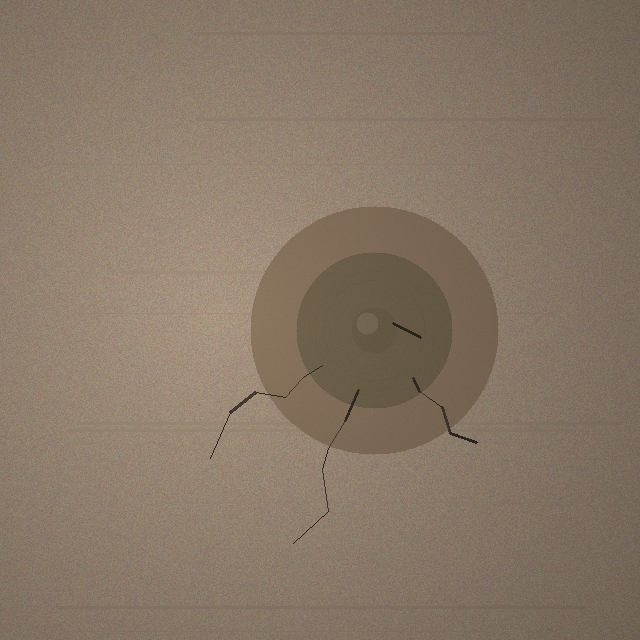crack: (250, 206, 498, 454)
